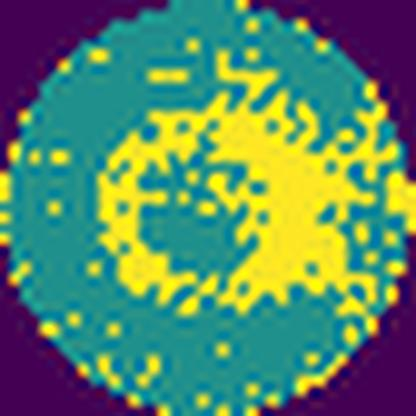Donut: (93, 87, 380, 317)
